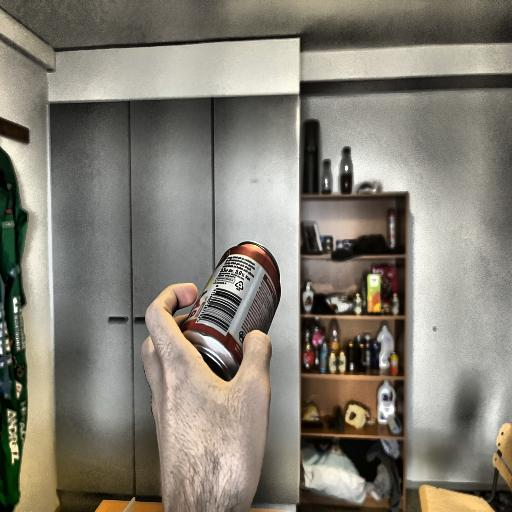koff: (177, 242, 284, 374)
